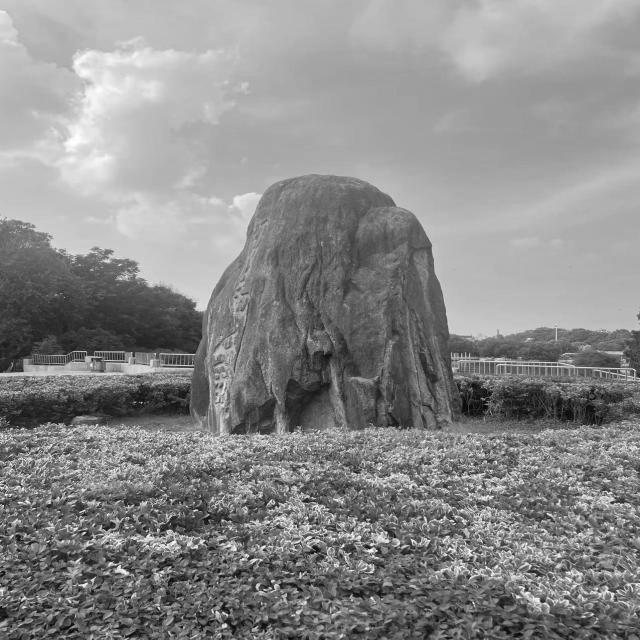Stone: (190, 175, 461, 433)
